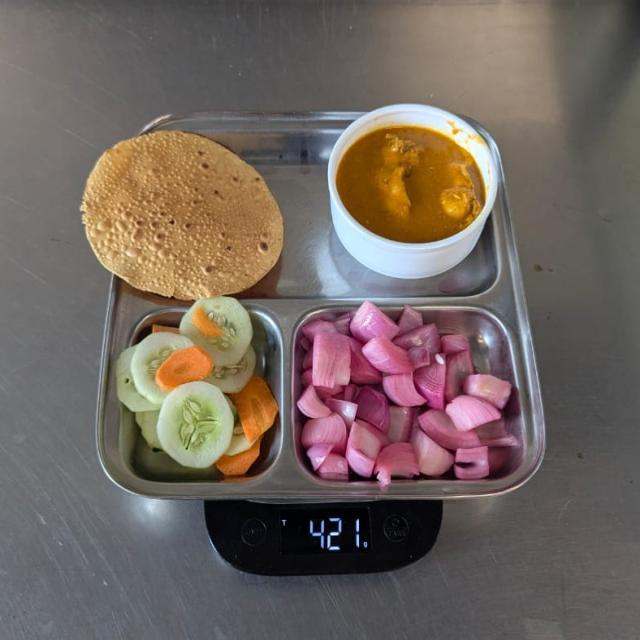Chapati: (76, 127, 285, 298)
Chicken Curry: (327, 114, 498, 258)
Salad: (297, 302, 524, 482), (116, 299, 280, 478)
